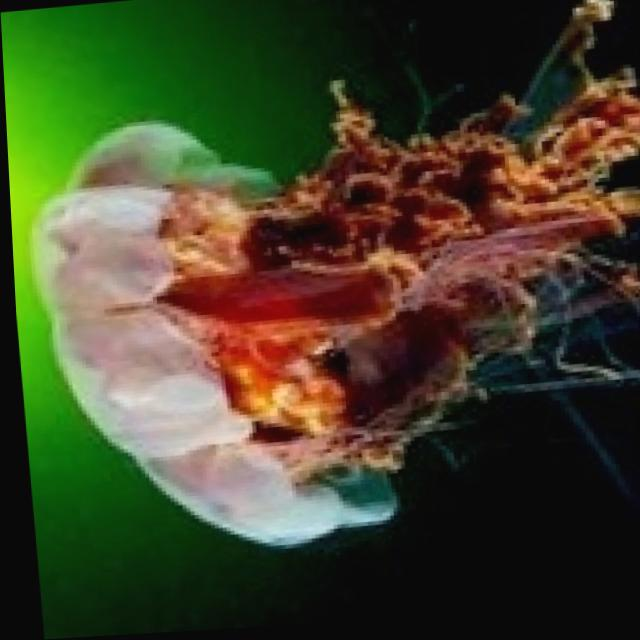Box-jellyfish: (6, 0, 640, 570)
